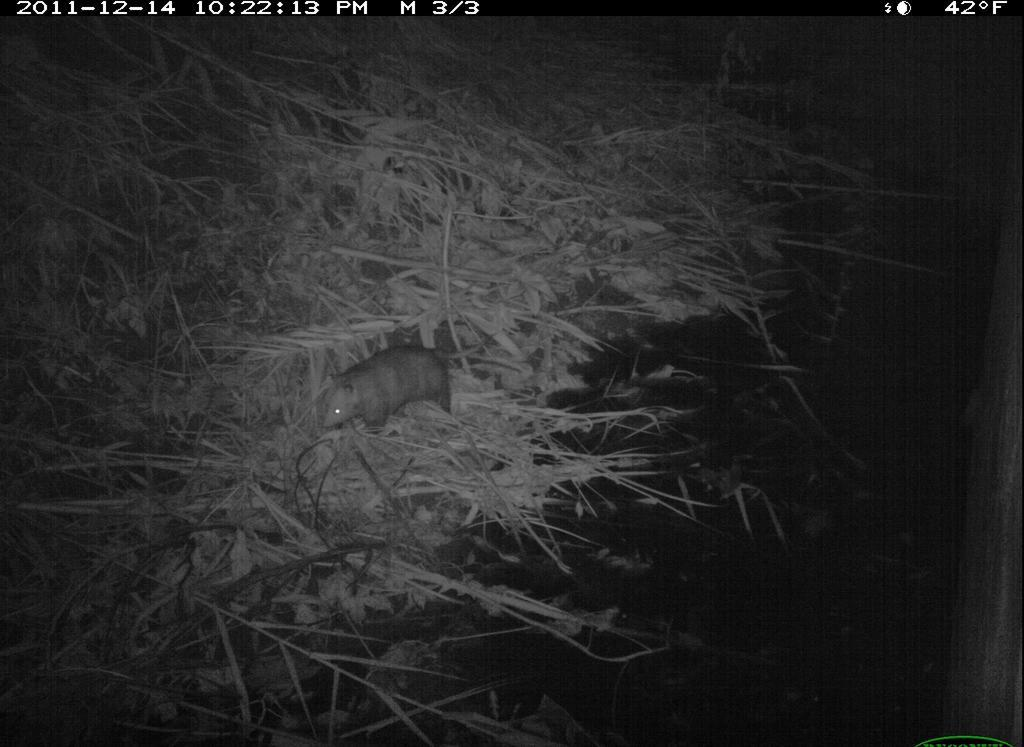opossum: (299, 329, 472, 452)
